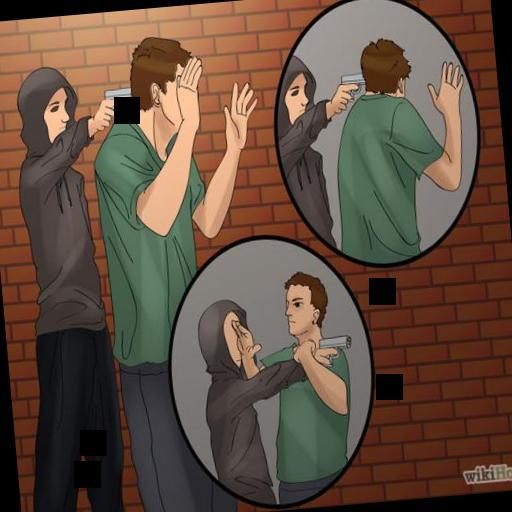Handgun: (89, 74, 140, 132), (300, 325, 354, 379), (329, 65, 366, 115)
